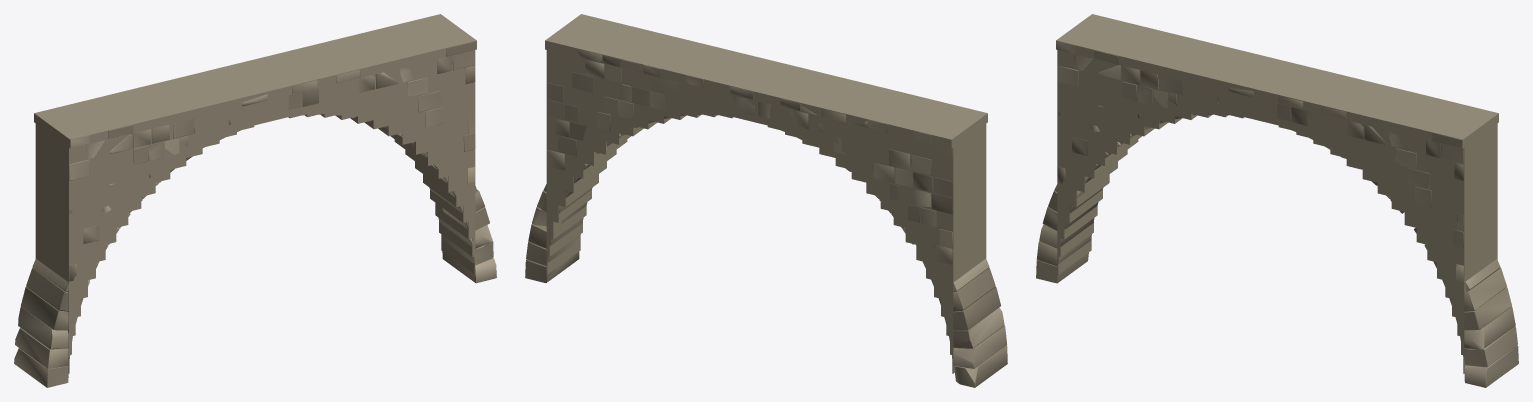
Rendered from viaduct_arch_b.glb.
The picture shows the model from 3 angles, left to right: view 1: azimuth 30°, elevation 25°; view 2: azimuth 150°, elevation 25°; view 3: azimuth 330°, elevation 25°; orthographic projection.
Visible parts, largest first — view 1: viaduct_arch_b_far, viaduct_arch_b; view 2: viaduct_arch_b_far, viaduct_arch_b; view 3: viaduct_arch_b_far, viaduct_arch_b.
Part boxes in pixels (left/top/right/bottom): viaduct_arch_b_far: left=34, top=14, right=476, bottom=373; viaduct_arch_b: left=14, top=41, right=496, bottom=387; viaduct_arch_b_far: left=545, top=14, right=987, bottom=373; viaduct_arch_b: left=525, top=48, right=1007, bottom=387; viaduct_arch_b_far: left=1056, top=14, right=1498, bottom=373; viaduct_arch_b: left=1036, top=41, right=1518, bottom=387.
Bounding box in the file's own units: 62.43 × 32.39 × 8.78.
